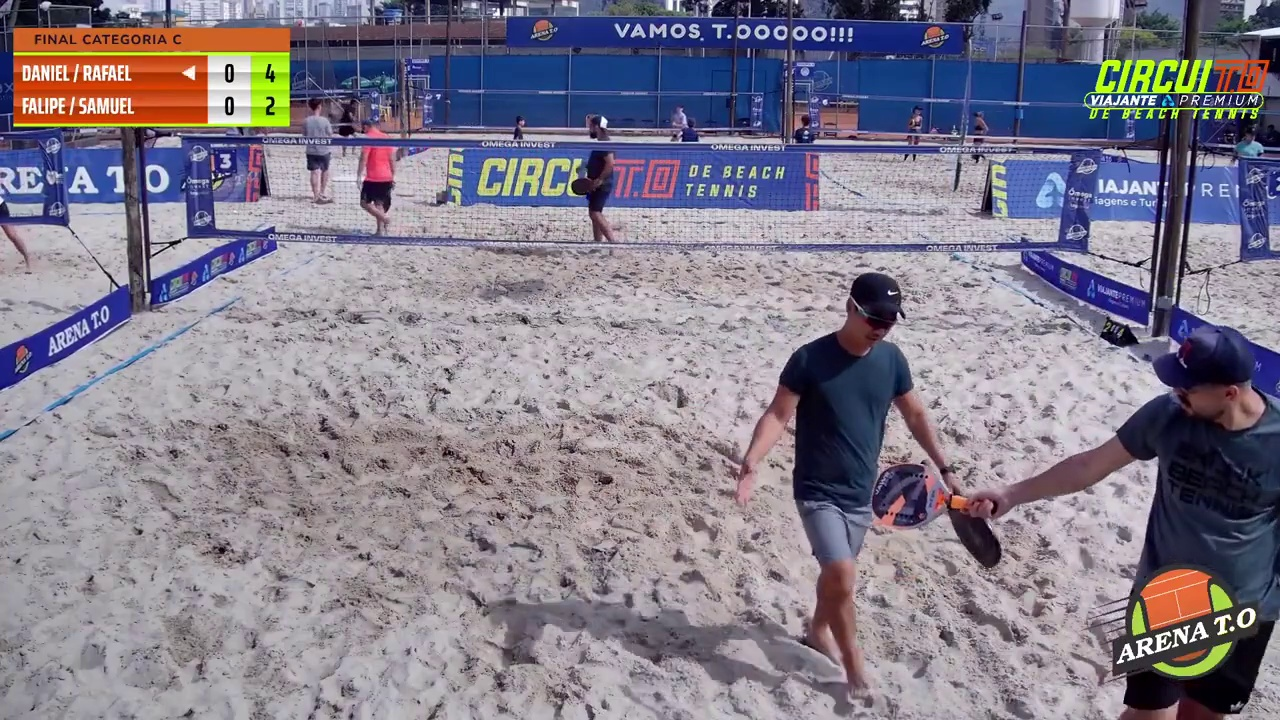court_line: (641, 0, 806, 471)
